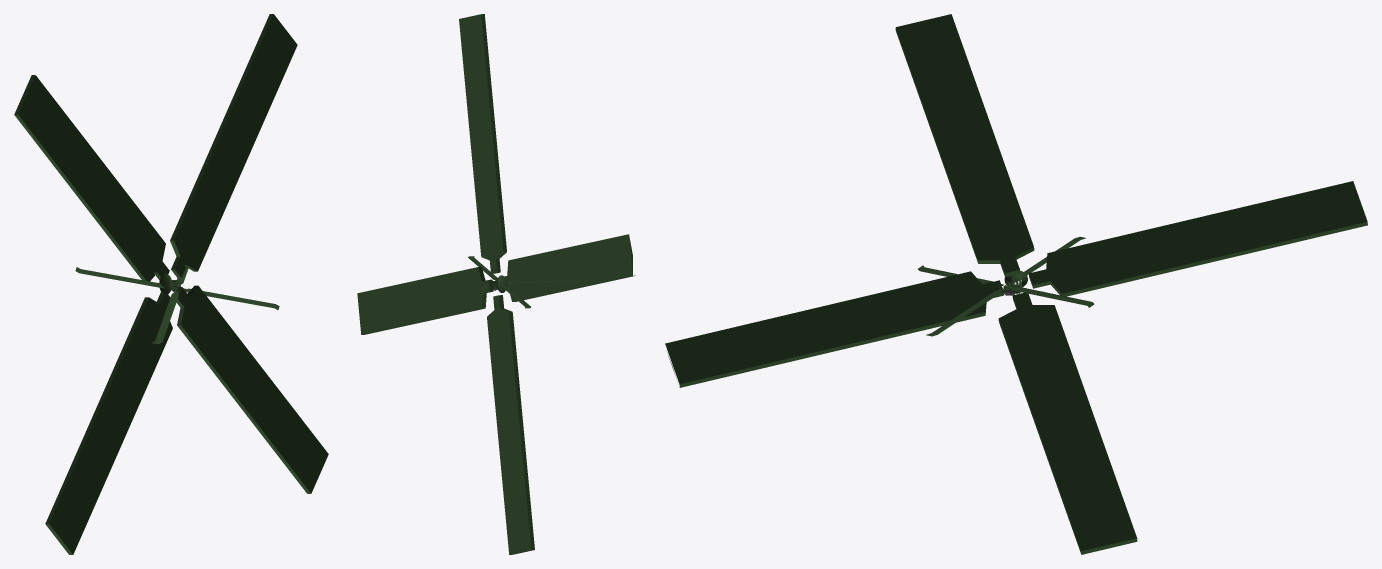
Rendered from helicopter02.glb.
3 renders of one model, left to right at view 1: azimuth 30°, elevation 25°; view 2: azimuth 150°, elevation 25°; view 3: azimuth 270°, elevation 25°, orthographic. The views are drawn at different scales.
Parts seen in each view (by area): view 1: Mesh.013, Mesh.015; view 2: Mesh.013, Mesh.015; view 3: Mesh.013, Mesh.015.
Boxes of the visible parts, box(x1,y1,x2,y2) form: Mesh.013: box(14, 14, 328, 554); Mesh.015: box(75, 267, 279, 344); Mesh.013: box(357, 14, 635, 554); Mesh.015: box(468, 256, 583, 308); Mesh.013: box(665, 14, 1367, 554); Mesh.015: box(918, 236, 1094, 336).
Size of what is drawn, in the model's own units: 160 by 571 by 590.
